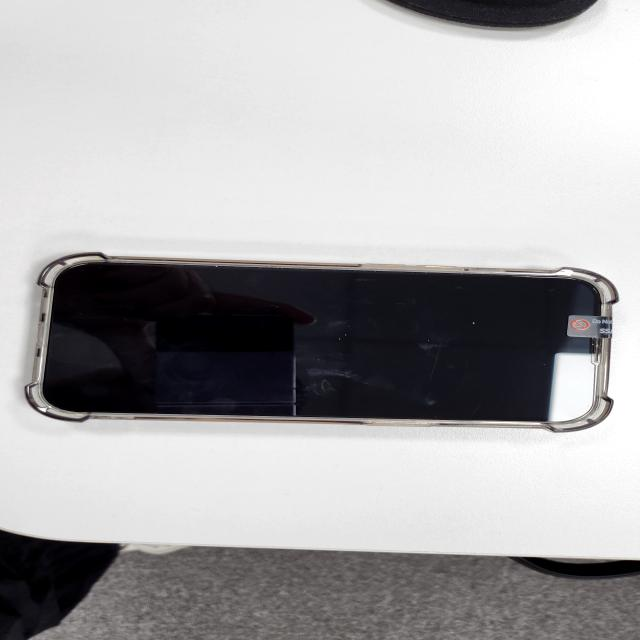phone: (29, 254, 616, 436)
sticker: (569, 315, 611, 339)
